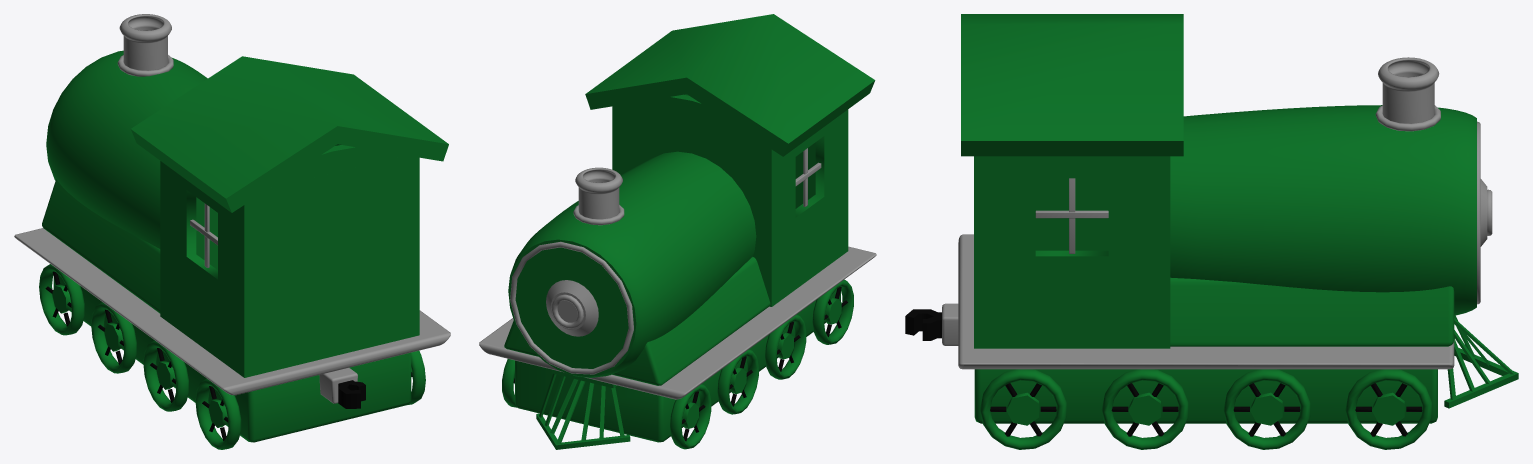
The model's file is Locomotive Trains(1).glb.
The picture shows the model from 3 angles, left to right: view 1: azimuth 30°, elevation 25°; view 2: azimuth 150°, elevation 25°; view 3: azimuth 270°, elevation 25°; orthographic projection. The views are drawn at different scales.
Visible parts, largest first — view 1: Root; view 2: Root; view 3: Root.
Boxes of the visible parts, x1,y1,x2,y2 form: Root: [14, 14, 450, 449]; Root: [479, 14, 876, 449]; Root: [905, 14, 1518, 449].
Bounding box in the file's own units: 2.36 × 3.15 × 4.71.
